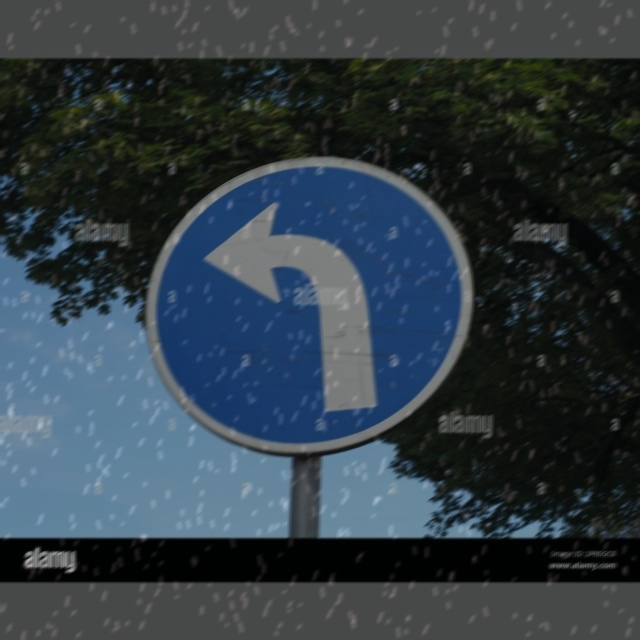Compulsory_Turn_Left_Ahead: (147, 157, 468, 460)
